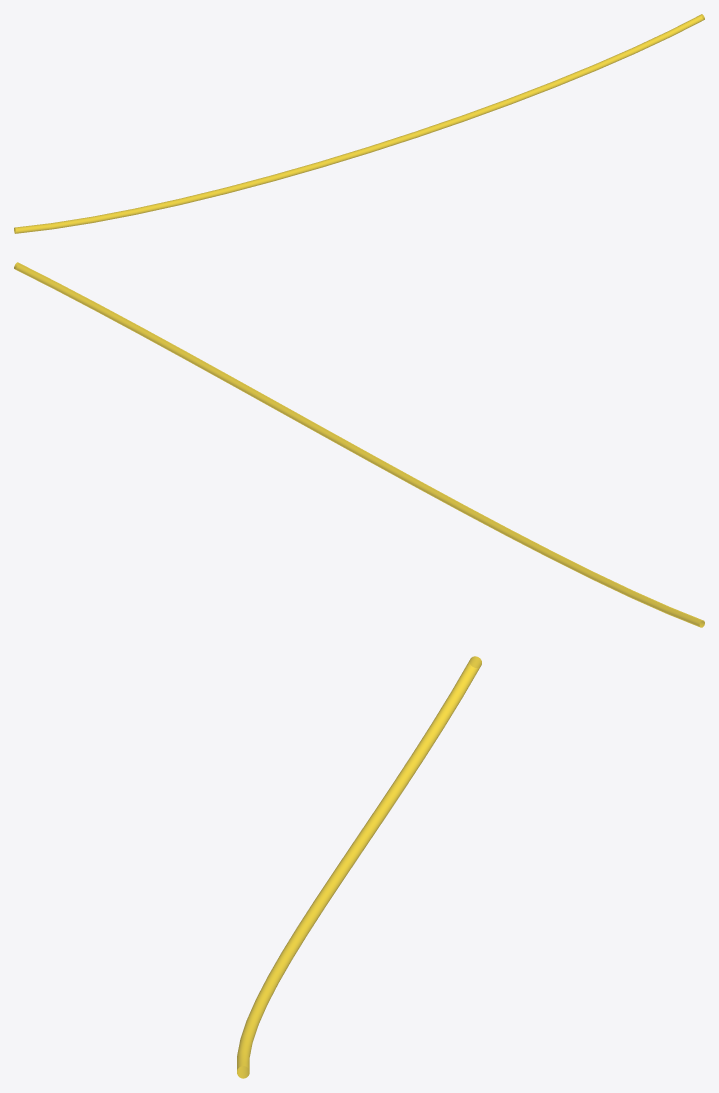
Rendered from Event_17758602_track_165.fbx.
3 views of the same model, one above another, from view 1: azimuth 30°, elevation 25°; view 2: azimuth 150°, elevation 25°; view 3: azimuth 270°, elevation 25° (orthographic). The views are drawn at different scales.
Visible parts, largest first — view 1: Model; view 2: Model; view 3: Model.
Boxes of the visible parts, x1=… form: Model: x1=14, y1=14, x2=704, y2=233; Model: x1=14, y1=262, x2=704, y2=627; Model: x1=237, y1=656, x2=481, y2=1078.
Size of the model in its own units: 4.53 by 0.7433 by 0.7628.
